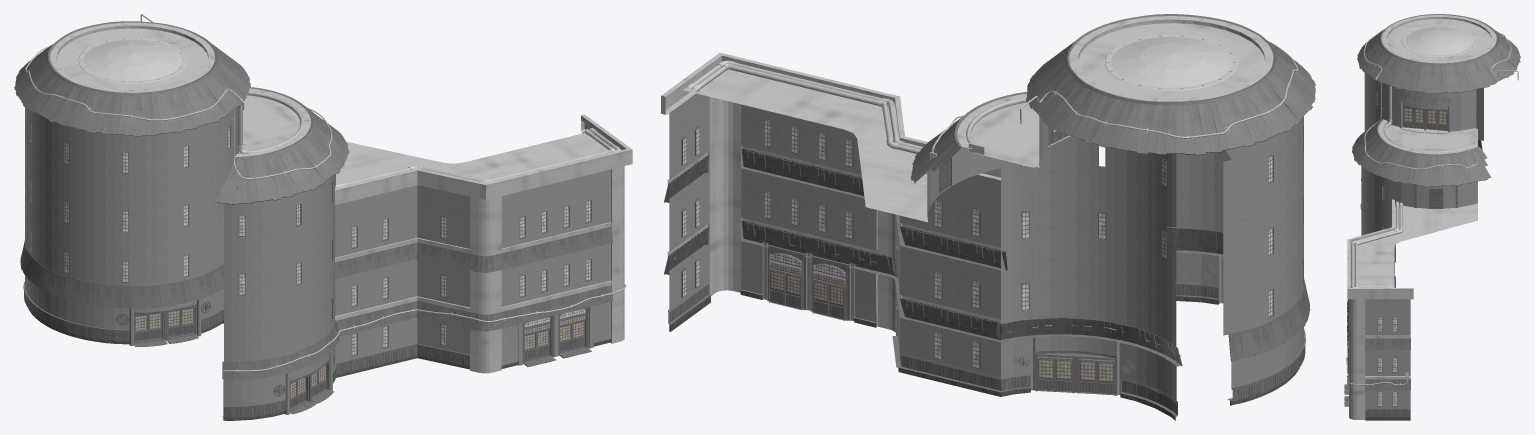
The model's file is SM_ENV_KNVLLG_AreaF_Building_A_Part03.mo.fbx.
3 views of the same model, side by side, from view 1: azimuth 30°, elevation 25°; view 2: azimuth 150°, elevation 25°; view 3: azimuth 270°, elevation 25° (orthographic). The views are drawn at different scales.
Visible parts, largest first — view 1: SM_ENV_KNVLLG_AreaF_Building_A_Part03.mo; view 2: SM_ENV_KNVLLG_AreaF_Building_A_Part03.mo; view 3: SM_ENV_KNVLLG_AreaF_Building_A_Part03.mo.
Boxes of the visible parts, x1,y1,x2,y2 form: SM_ENV_KNVLLG_AreaF_Building_A_Part03.mo: (14, 14, 632, 420); SM_ENV_KNVLLG_AreaF_Building_A_Part03.mo: (661, 14, 1315, 420); SM_ENV_KNVLLG_AreaF_Building_A_Part03.mo: (1344, 14, 1520, 420).
Size of the model in its own units: 57.52 by 35.44 by 23.62.
